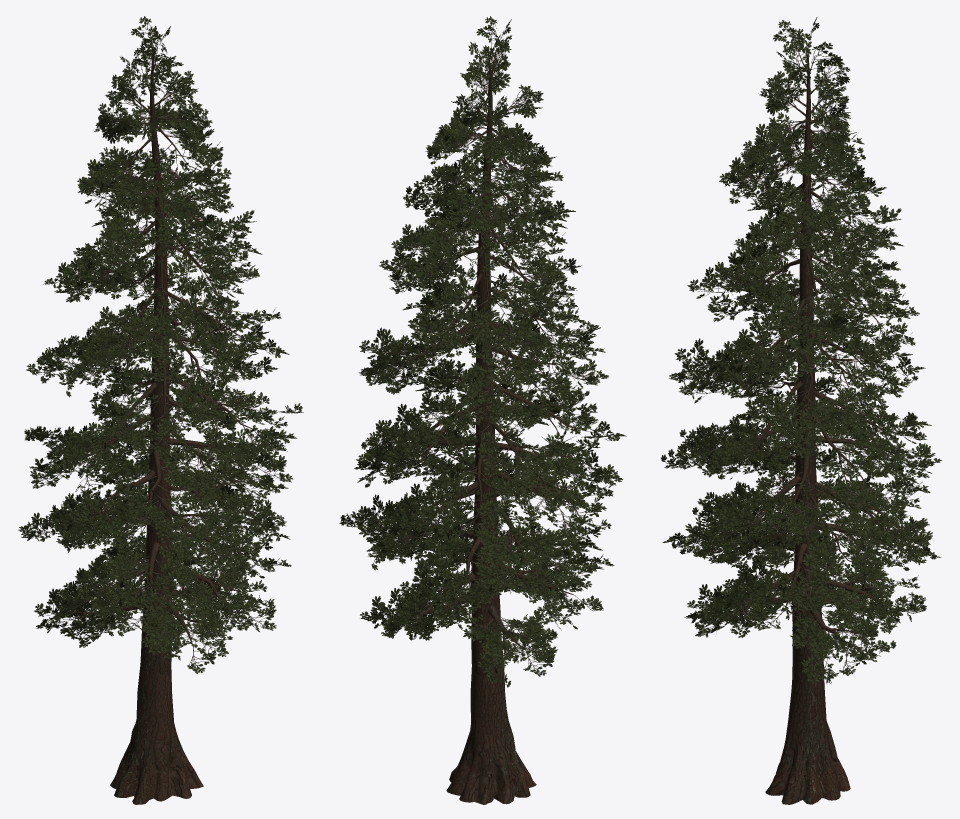
The model's file is s3dtrees_treepineforest01.gltf.
3 renders of one model, left to right at view 1: azimuth 30°, elevation 25°; view 2: azimuth 150°, elevation 25°; view 3: azimuth 270°, elevation 25°, orthographic.
Parts seen in each view (by area): view 1: S3DTrees_treepineforest01_needles, S3DTrees_treepineforest01_needlesSN, S3DTrees_treepineforest01_trunk; view 2: S3DTrees_treepineforest01_needles, S3DTrees_treepineforest01_needlesSN, S3DTrees_treepineforest01_trunk; view 3: S3DTrees_treepineforest01_needles, S3DTrees_treepineforest01_needlesSN, S3DTrees_treepineforest01_trunk.
Part boxes in pixels (x1,y1,x2,y2): S3DTrees_treepineforest01_needles: [24, 36, 303, 669]; S3DTrees_treepineforest01_needlesSN: [18, 16, 297, 673]; S3DTrees_treepineforest01_trunk: [54, 45, 265, 804]; S3DTrees_treepineforest01_needles: [339, 34, 619, 687]; S3DTrees_treepineforest01_needlesSN: [356, 16, 626, 683]; S3DTrees_treepineforest01_trunk: [379, 45, 586, 804]; S3DTrees_treepineforest01_needles: [661, 28, 936, 683]; S3DTrees_treepineforest01_needlesSN: [662, 17, 941, 683]; S3DTrees_treepineforest01_trunk: [699, 44, 902, 804].
Size of the model in its own units: 9.69 by 28.83 by 9.76.
Materials: 2 (2 with a texture image).
